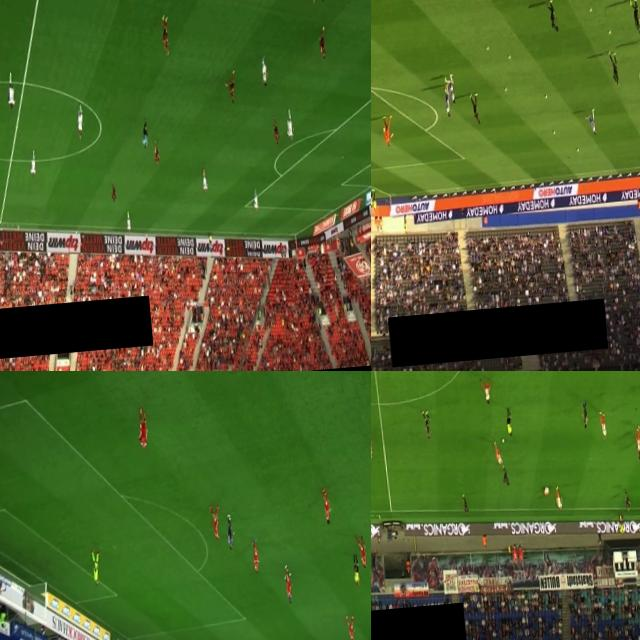ball: (500, 436, 505, 444), (507, 54, 512, 60), (544, 95, 548, 102), (552, 132, 556, 138), (588, 8, 592, 12), (484, 46, 488, 50), (609, 30, 611, 35), (576, 149, 578, 153), (505, 89, 507, 92)
player: (134, 401, 152, 450), (209, 496, 223, 546), (221, 505, 235, 554), (320, 482, 332, 527), (248, 533, 261, 574), (160, 18, 172, 57), (546, 0, 559, 34), (356, 533, 368, 568), (74, 102, 86, 136), (609, 49, 620, 86), (89, 548, 100, 585), (224, 70, 236, 103), (6, 74, 17, 109), (421, 408, 432, 440), (630, 0, 640, 35), (444, 74, 456, 103), (318, 29, 329, 60), (469, 94, 480, 125), (284, 570, 294, 604), (479, 376, 491, 404), (598, 408, 608, 441), (260, 54, 270, 86), (492, 440, 504, 466), (382, 115, 392, 146), (554, 483, 564, 512), (283, 563, 292, 595), (580, 399, 589, 428), (586, 108, 596, 134), (500, 462, 510, 488), (251, 188, 260, 214), (346, 613, 354, 640), (272, 121, 282, 142), (444, 88, 451, 118), (286, 113, 294, 139), (200, 168, 208, 194), (633, 423, 640, 452), (29, 150, 37, 174), (124, 211, 132, 235), (622, 488, 630, 512), (152, 141, 158, 169), (462, 493, 469, 517), (634, 437, 640, 464), (110, 184, 118, 204), (637, 37, 640, 72), (543, 485, 550, 497), (371, 431, 373, 459)
